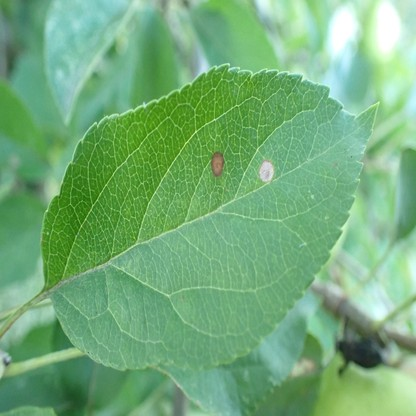frogeye_leaf_spot: (259, 160, 274, 184), (211, 152, 225, 175)
